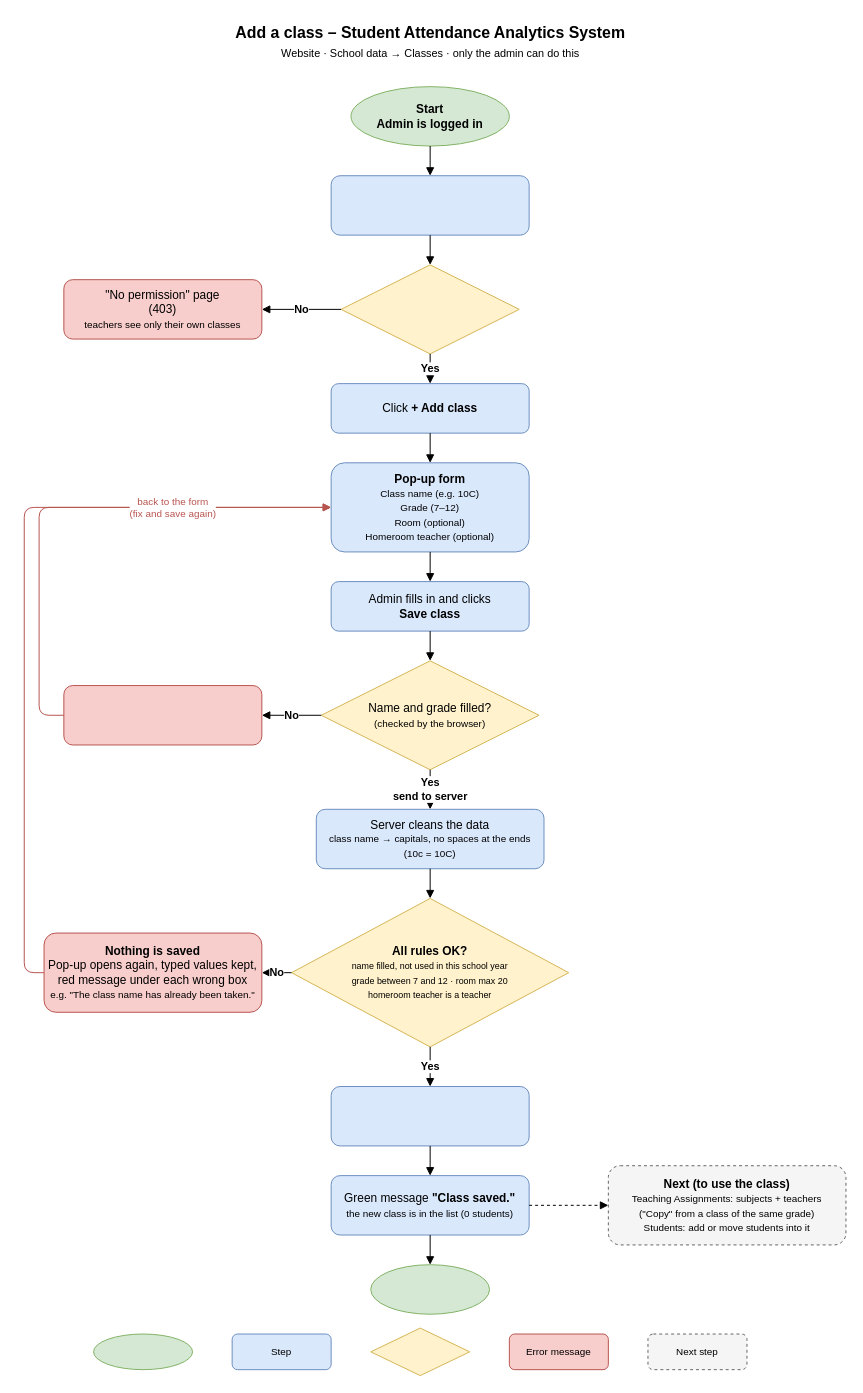
This 863x1393 diagram has some shape labels left out. The shapes that lost their labels are listed below. From the top down, each one's centre as x and y in pixels, then its label:
[429,205]: Open Classes page (/classes) tabs by grade, search
[429,309]: User is admin?
[162,715]: Browser bubble: "Please fill in this field." (Khmer page: សូមបញ្ចូល …)
[429,1116]: Save the class in the current school year (2026-2027)
[430,1289]: End
[143,1351]: Start / End
[420,1351]: Decision
